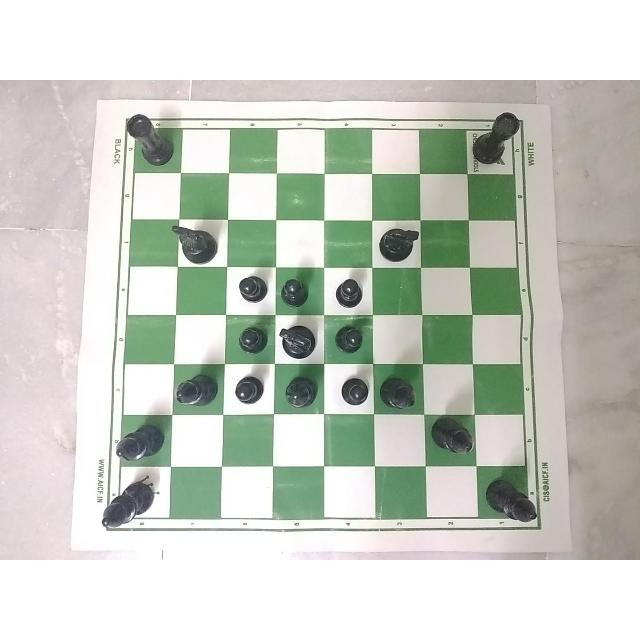black-bishop: (100, 474, 162, 533), (488, 473, 540, 527), (430, 417, 478, 469), (111, 417, 161, 465), (174, 368, 223, 416), (376, 367, 424, 414), (282, 375, 322, 411)
black-knight: (170, 218, 218, 266), (373, 219, 422, 265), (276, 318, 320, 358)
black-pawn: (333, 370, 369, 414), (234, 266, 274, 303), (331, 267, 368, 307), (230, 319, 270, 356), (276, 269, 312, 305), (232, 375, 268, 409), (335, 324, 371, 356)
black-rook: (465, 111, 529, 167), (120, 112, 176, 170)
